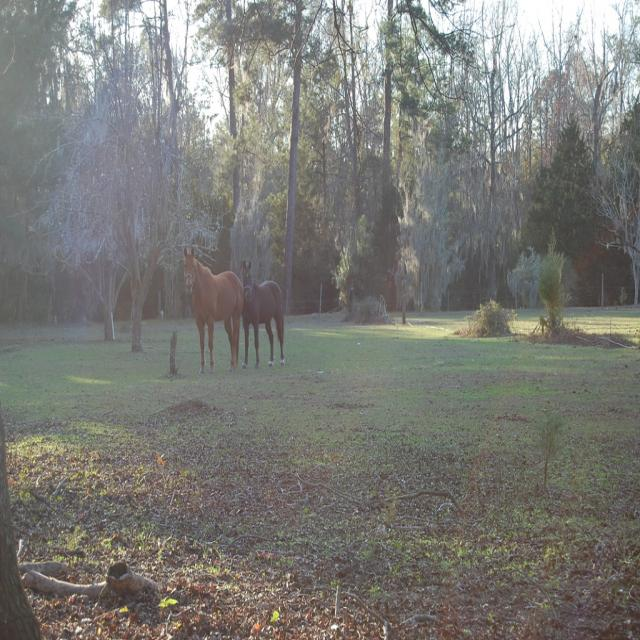Horse: (183, 247, 246, 373), (240, 260, 286, 366)
